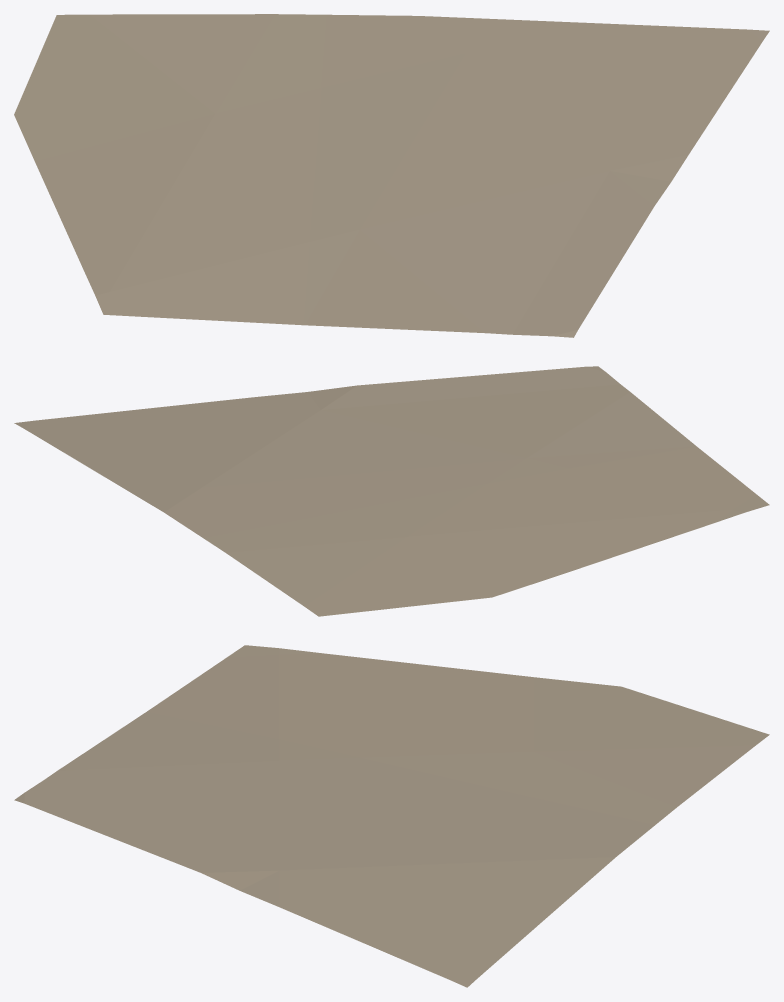
Rendered from farm_6_-3_soil.glb.
The picture shows the model from 3 angles, top to bottom: view 1: azimuth 30°, elevation 25°; view 2: azimuth 150°, elevation 25°; view 3: azimuth 270°, elevation 25°; orthographic projection. The views are drawn at different scales.
Parts seen in each view (by area): view 1: geometry_0; view 2: geometry_0; view 3: geometry_0.
Part boxes in pixels (bbox=[...]): geometry_0: bbox=[14, 14, 769, 337]; geometry_0: bbox=[14, 366, 769, 616]; geometry_0: bbox=[14, 645, 769, 987].
Size of the model in its own units: 254 by 9.49 by 237.
